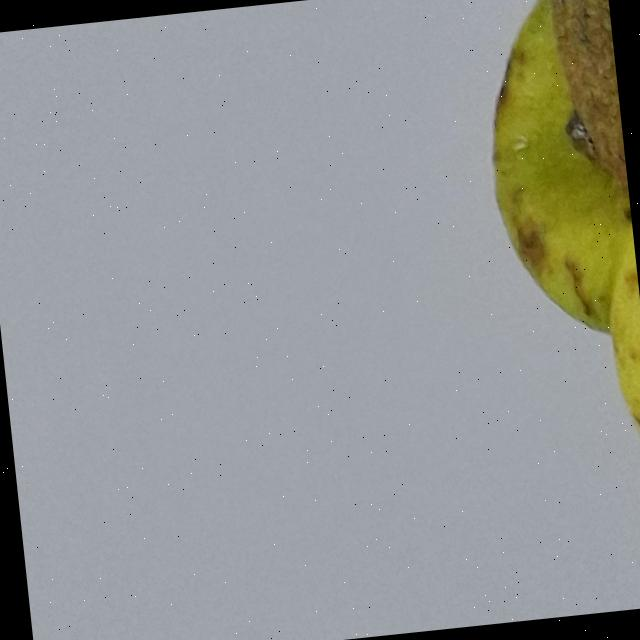mangosteen: (425, 0, 640, 623)
